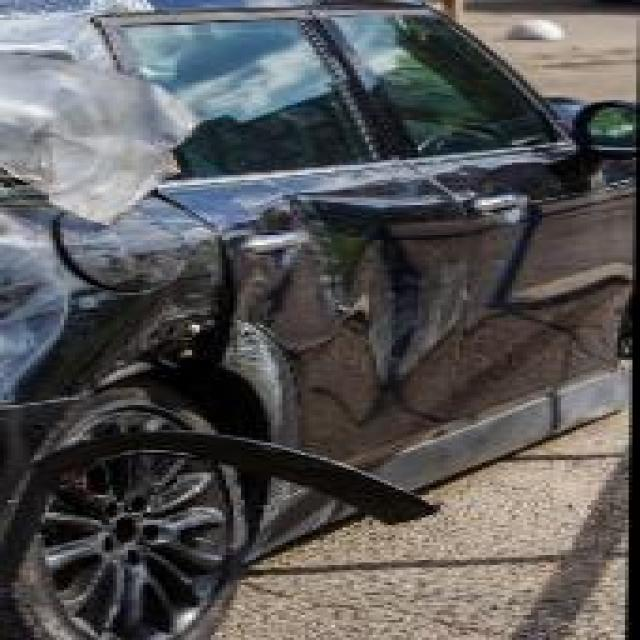Door: (264, 162, 477, 505)
